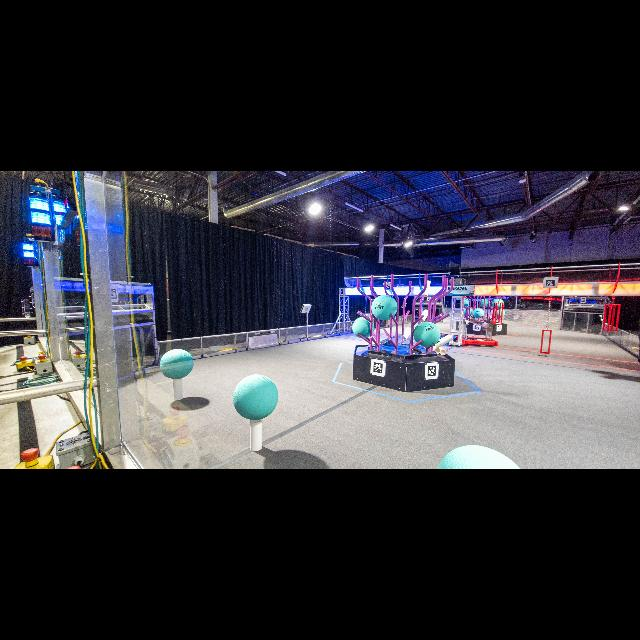ALGAE: (234, 376, 278, 420), (438, 446, 520, 469), (160, 350, 193, 380), (414, 322, 441, 348), (371, 296, 397, 320), (352, 318, 373, 338), (492, 299, 504, 309), (494, 308, 506, 318), (474, 309, 484, 319), (480, 300, 490, 308), (460, 300, 470, 308), (463, 308, 472, 316)
CORAL: (250, 420, 262, 452), (435, 335, 453, 349), (401, 328, 411, 340), (420, 310, 428, 322)
